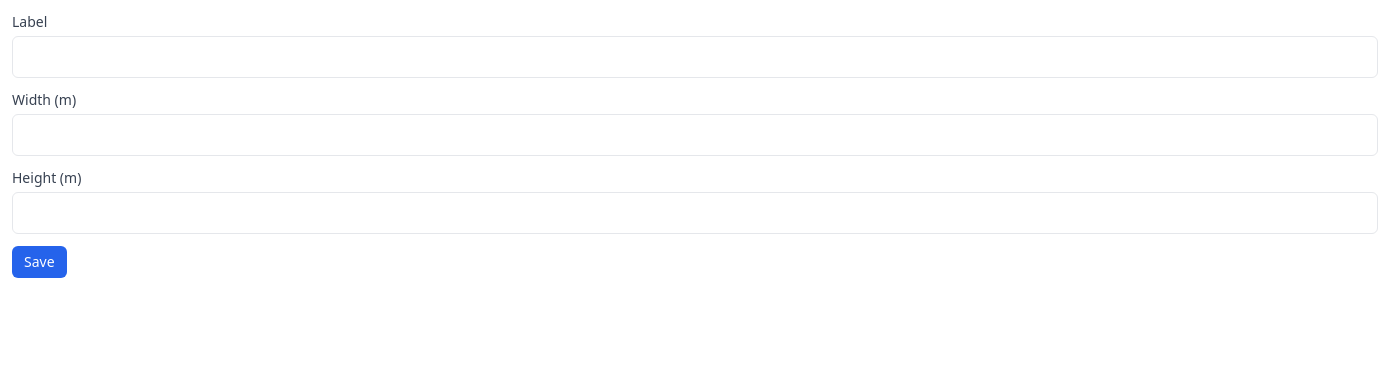
Test: WindowForm › rejects zero width
The image size is (1390, 365).
Type "W" into the field labelled "Label". click: coordinates (695, 57)
box: [12,36,1378,78]
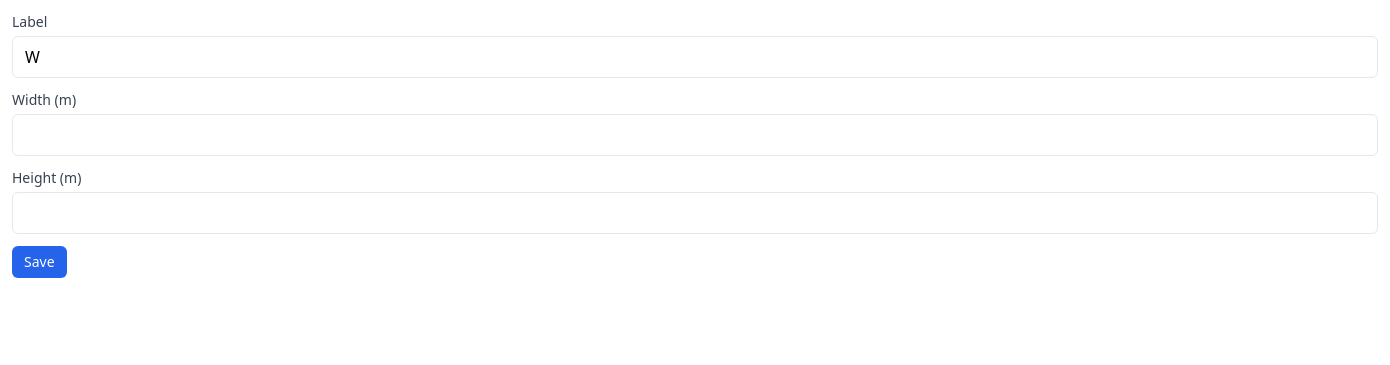
Type "0" into the number field labelled "Width (m)". click: coordinates (695, 135)
box: [12,114,1378,156]
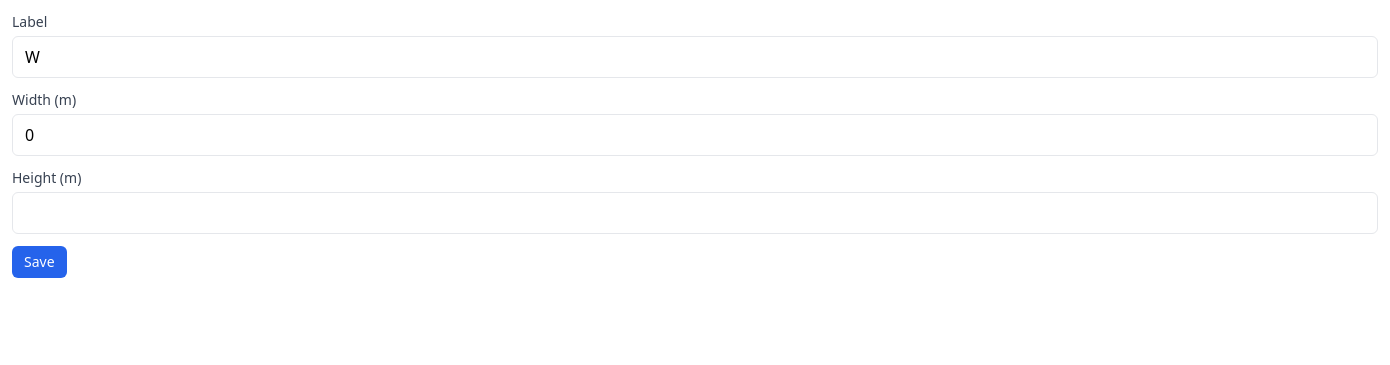
Type "1" into the number field labelled "Height (m)". click: coordinates (695, 213)
box: [12,192,1378,234]
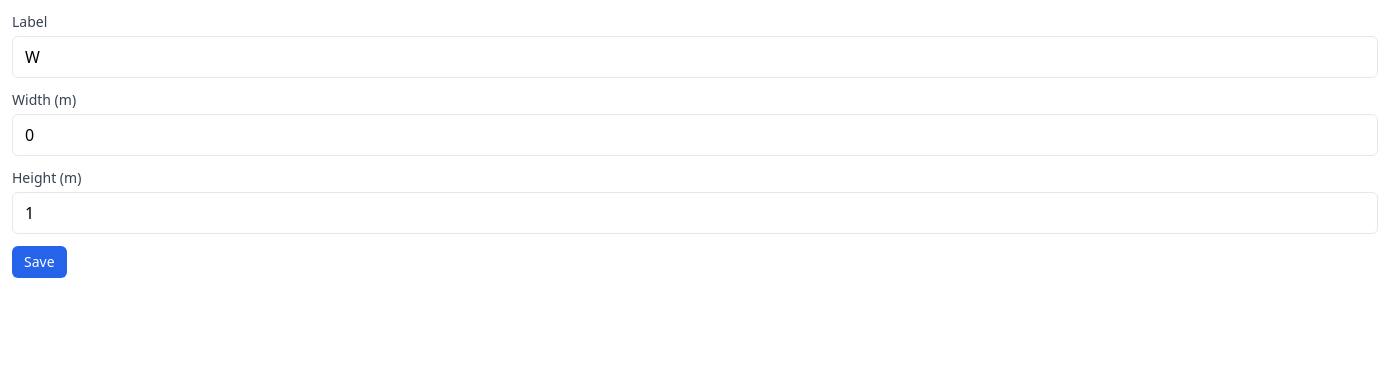
Submit the form named "Window form"
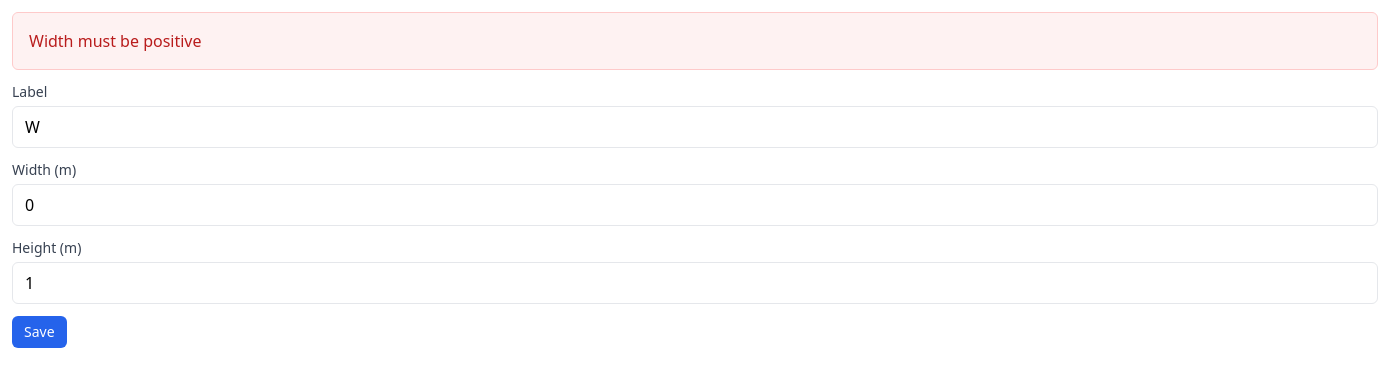
Expected: the message shows "positive", [29,30,202,52]
